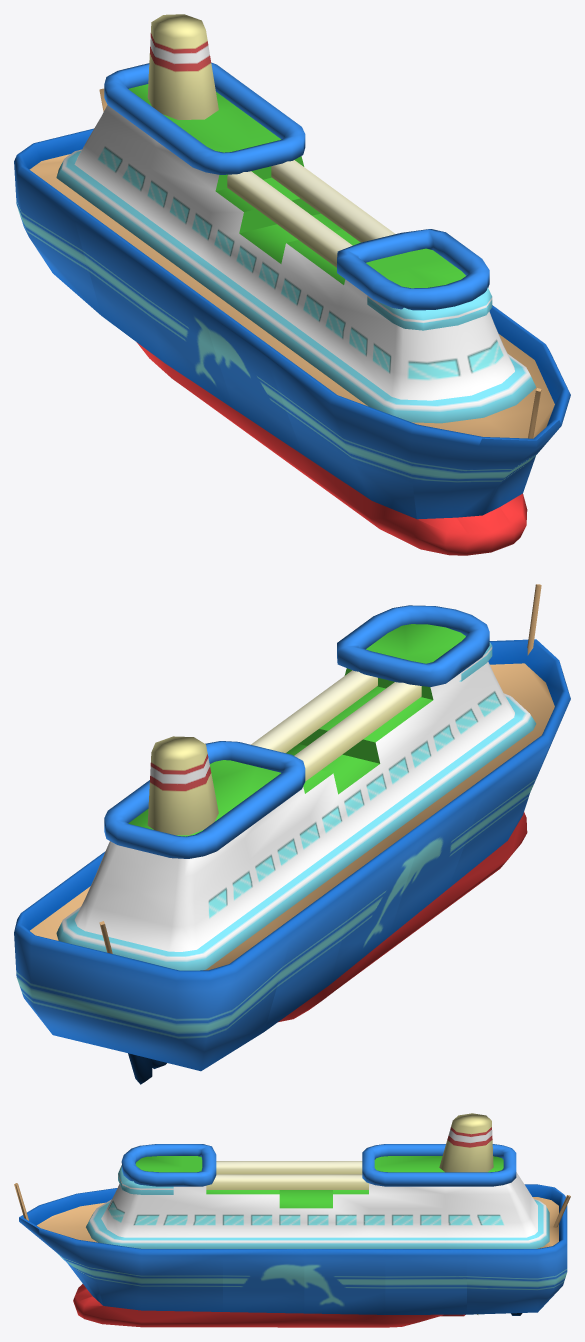
File: ship_01.fbx
3 views of the same model, one above another, from view 1: azimuth 30°, elevation 25°; view 2: azimuth 150°, elevation 25°; view 3: azimuth 270°, elevation 25° (orthographic). The views are drawn at different scales.
Parts seen in each view (by area): view 1: ship; view 2: ship; view 3: ship.
Part boxes in pixels (x1,y1,x2,y2): ship: [14, 14, 570, 555]; ship: [14, 584, 570, 1084]; ship: [14, 1113, 570, 1327].
Bounding box in the file's own units: 17.84 × 23.96 × 61.89.
Materials: 1 (1 with a texture image).
